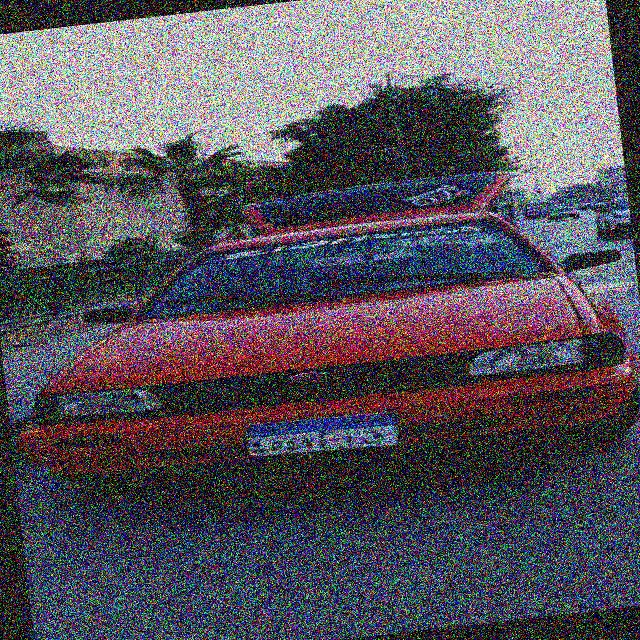License Plate: (239, 406, 408, 467)
